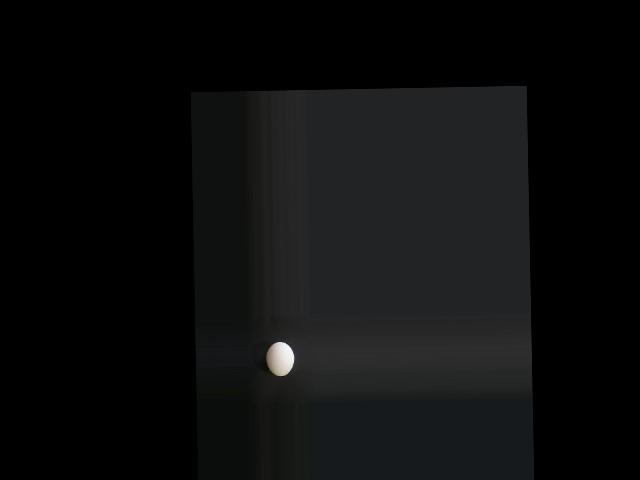egg: (265, 342, 294, 377)
